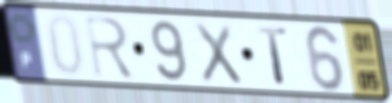0: (44, 12, 87, 80)
6: (303, 23, 346, 95)
9: (146, 17, 191, 83)
R: (81, 13, 137, 81)
T: (254, 23, 291, 87)
X: (191, 19, 245, 88)
